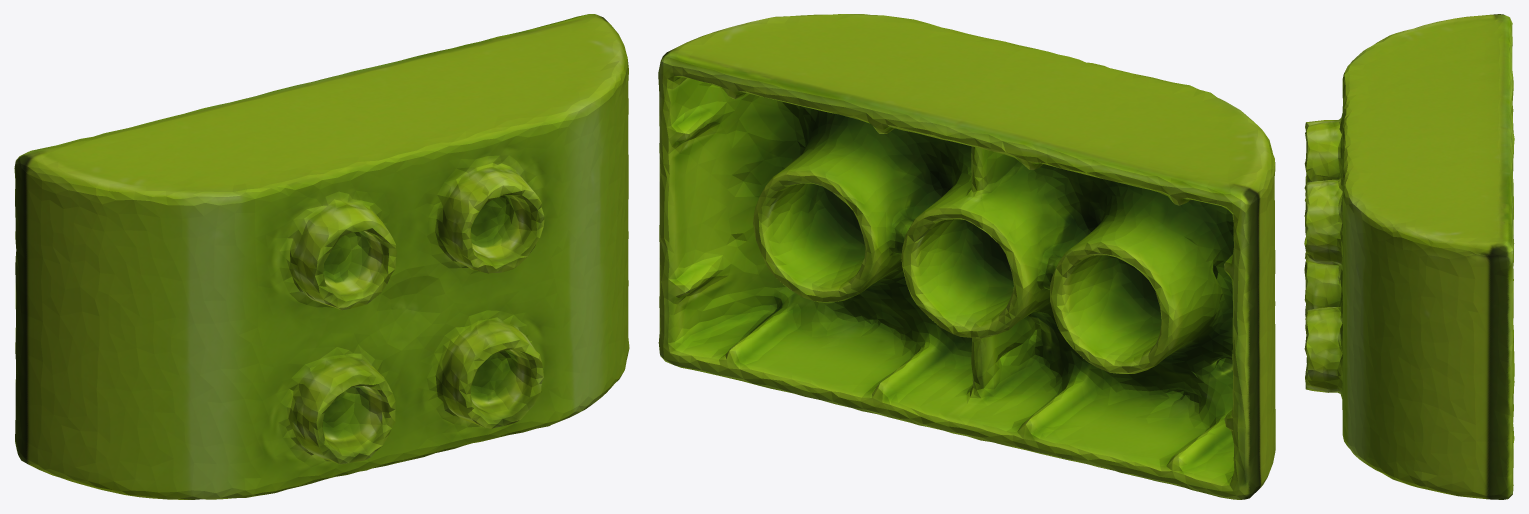
Rendered from a_lego_duplo.glb.
3 views of the same model, side by side, from view 1: azimuth 30°, elevation 25°; view 2: azimuth 150°, elevation 25°; view 3: azimuth 270°, elevation 25° (orthographic). The views are drawn at different scales.
Parts seen in each view (by area): view 1: textured.obj; view 2: textured.obj; view 3: textured.obj.
Boxes of the visible parts, left/top/right/bottom form: textured.obj: left=14, top=14, right=629, bottom=499; textured.obj: left=658, top=14, right=1275, bottom=499; textured.obj: left=1304, top=14, right=1514, bottom=499.
Size of the model in its own units: 0.064 by 0.0322 by 0.0239.
1 material, 1 textured.
